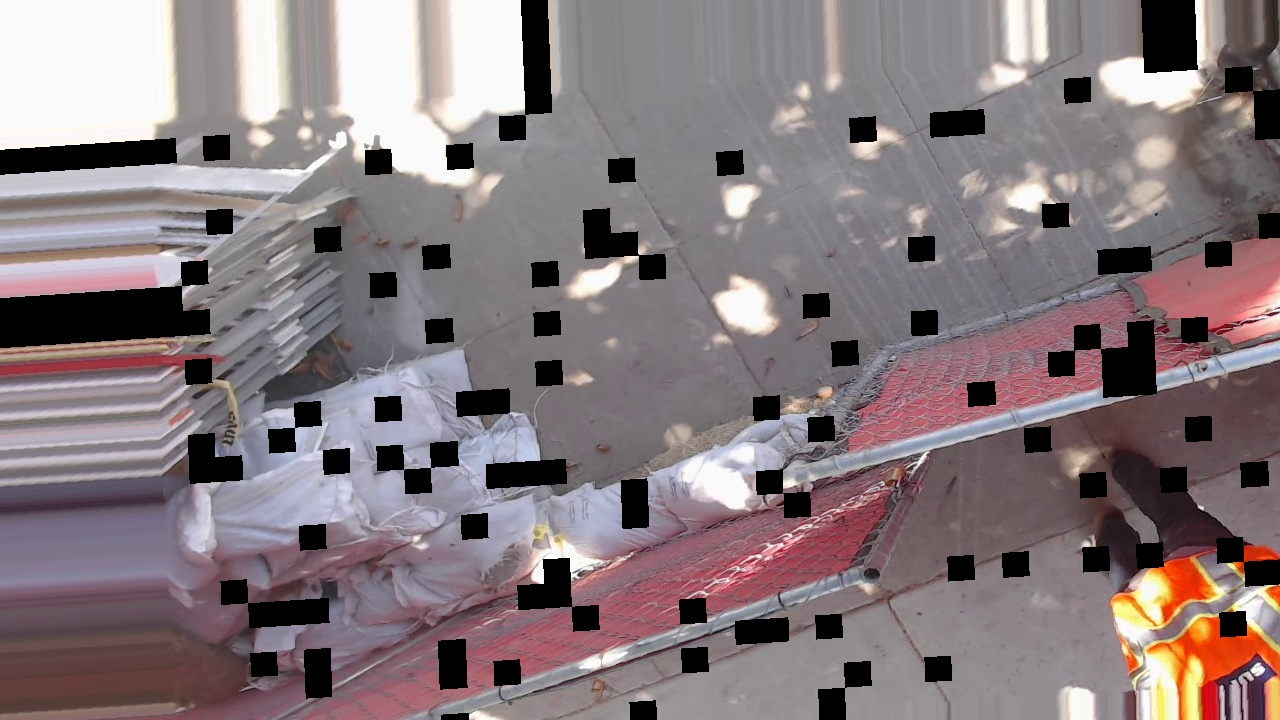hardhat: (635, 269, 795, 433)
person: (605, 186, 944, 533)
safetyvest: (606, 188, 836, 381)
